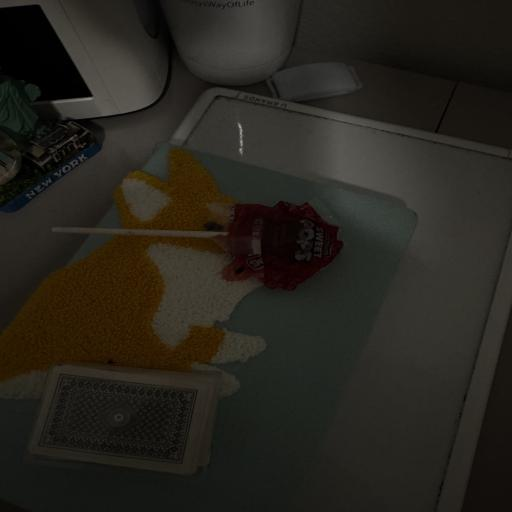chocolate: (224, 202, 342, 290)
